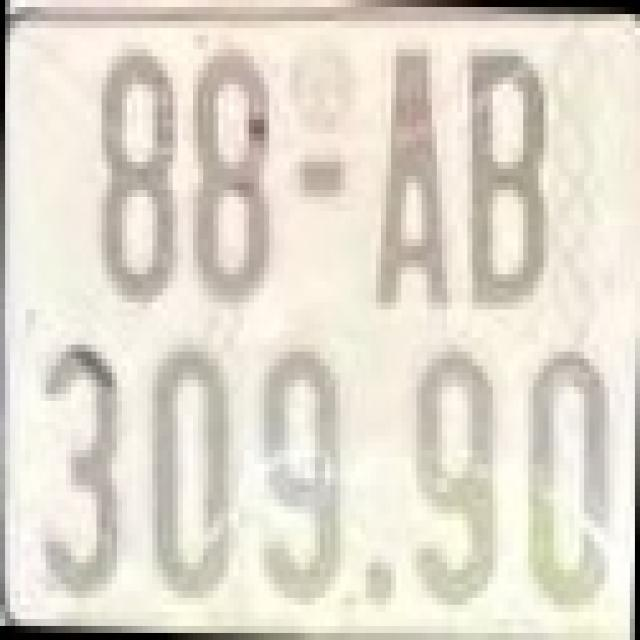0: (523, 344, 615, 604), (147, 344, 234, 590)
3: (38, 341, 125, 594)
8: (99, 46, 180, 306), (193, 42, 274, 302)
9: (409, 341, 500, 601), (254, 341, 345, 601)
A: (371, 42, 452, 317)
B: (462, 46, 554, 313)
